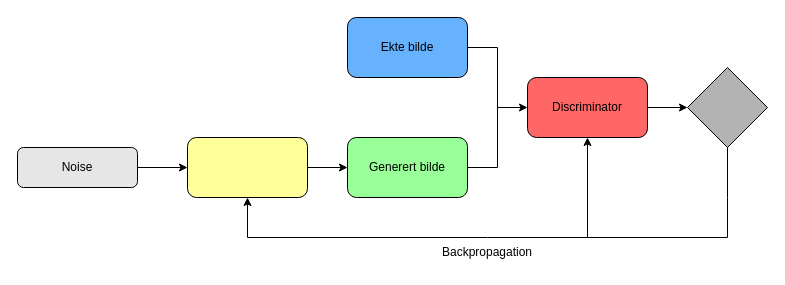
The diagram is 785 pixels wide and 285 high, and some of its shapes have lost their labels. The centre of each missing label's shape, as x and y in pixels:
"Ekte/Falsk" goes at pixel 727 107.
"Generator" goes at pixel 247 167.
